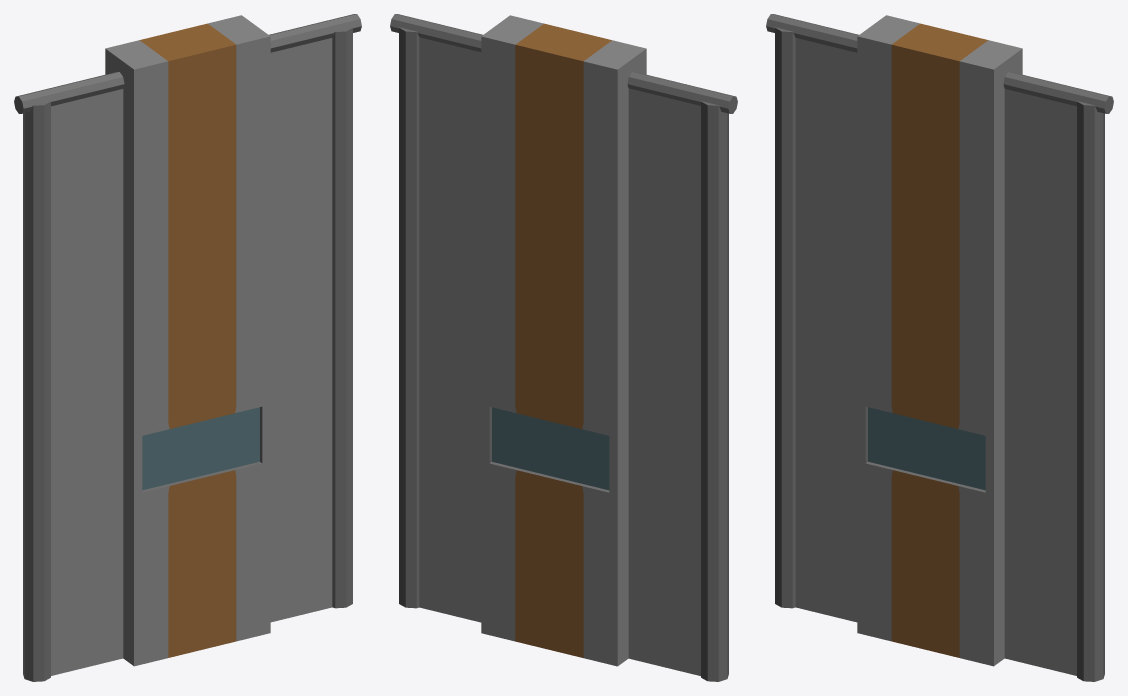
The model's file is quaternius-cyberpunk-door.glb.
3 renders of one model, left to right at view 1: azimuth 30°, elevation 25°; view 2: azimuth 150°, elevation 25°; view 3: azimuth 330°, elevation 25°, orthographic.
Parts seen in each view (by area): view 1: Door; view 2: Door; view 3: Door.
Part boxes in pixels (bbox=[...]): Door: bbox=[14, 14, 361, 681]; Door: bbox=[390, 14, 737, 681]; Door: bbox=[766, 14, 1113, 681].
Bounding box in the file's own units: 0.6897 × 1.16 × 0.102.
